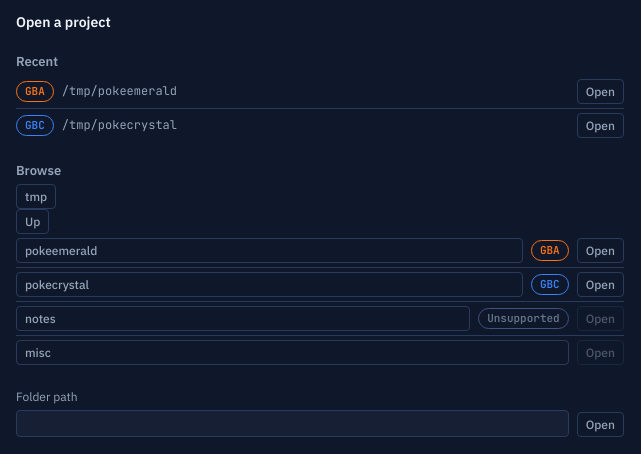
Test: ProjectPicker › a failed browse clears the stale listing and a re-click of the same folder (its breadcrumb) refetches
Check: the button "pokeemerald" is shown, box [16, 238, 523, 263]
Click the button "misc" at [38, 352], box [16, 340, 569, 365]
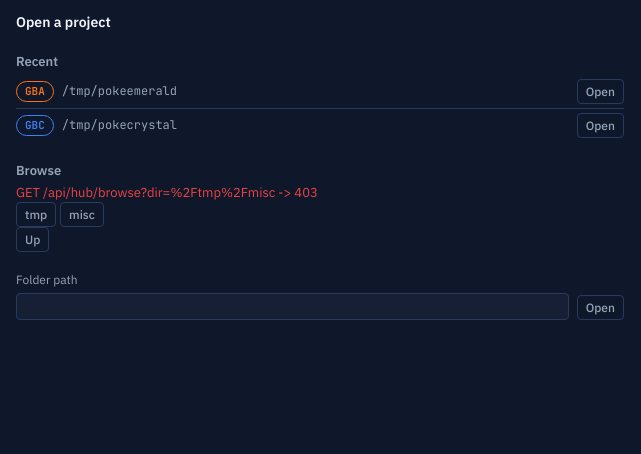
Check: the message shows "403", box [16, 184, 318, 201]
Note: The folder's own breadcrumb is what is left to re-click (same `dir`).
Click the button "misc" at [82, 215], box [60, 202, 104, 227]
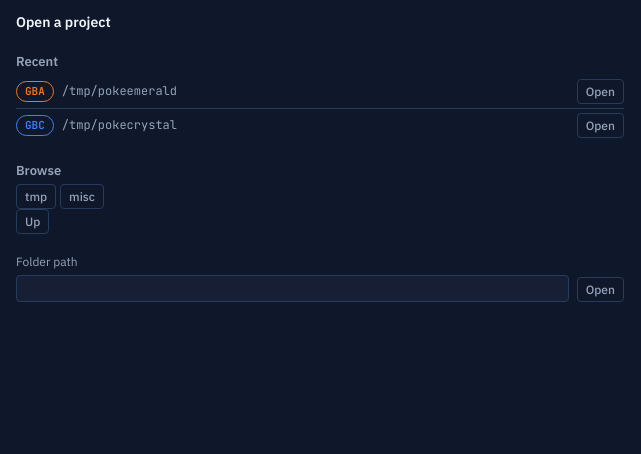
Check: the message "GET /api/hub/browse?dir=%2Ftmp%2Fmisc -> 403" is gone
